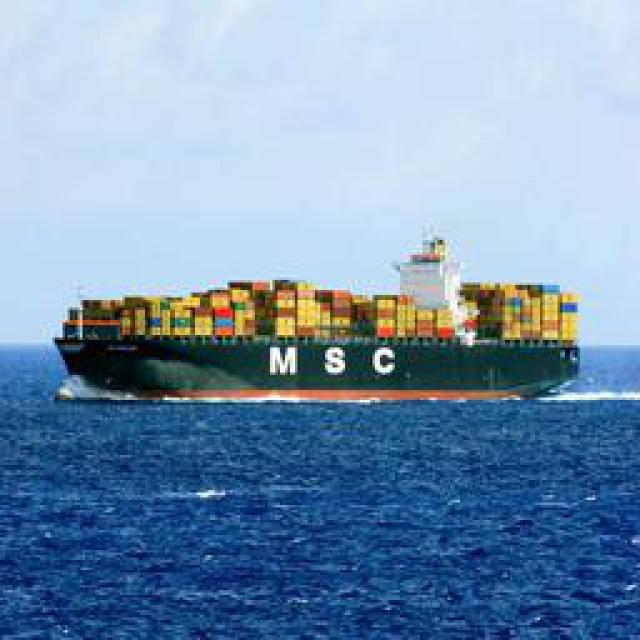Ship: (67, 225, 577, 408)
